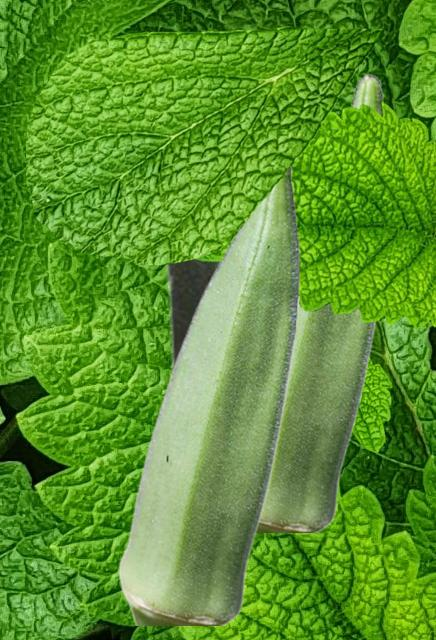okra: (118, 165, 299, 624), (258, 73, 386, 531), (161, 260, 217, 382)
